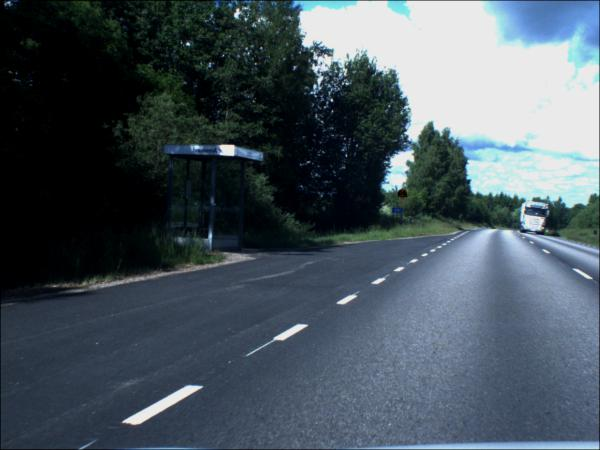80_SIGN: (398, 191, 408, 199)
PRIORITY_ROAD: (398, 201, 406, 207)
